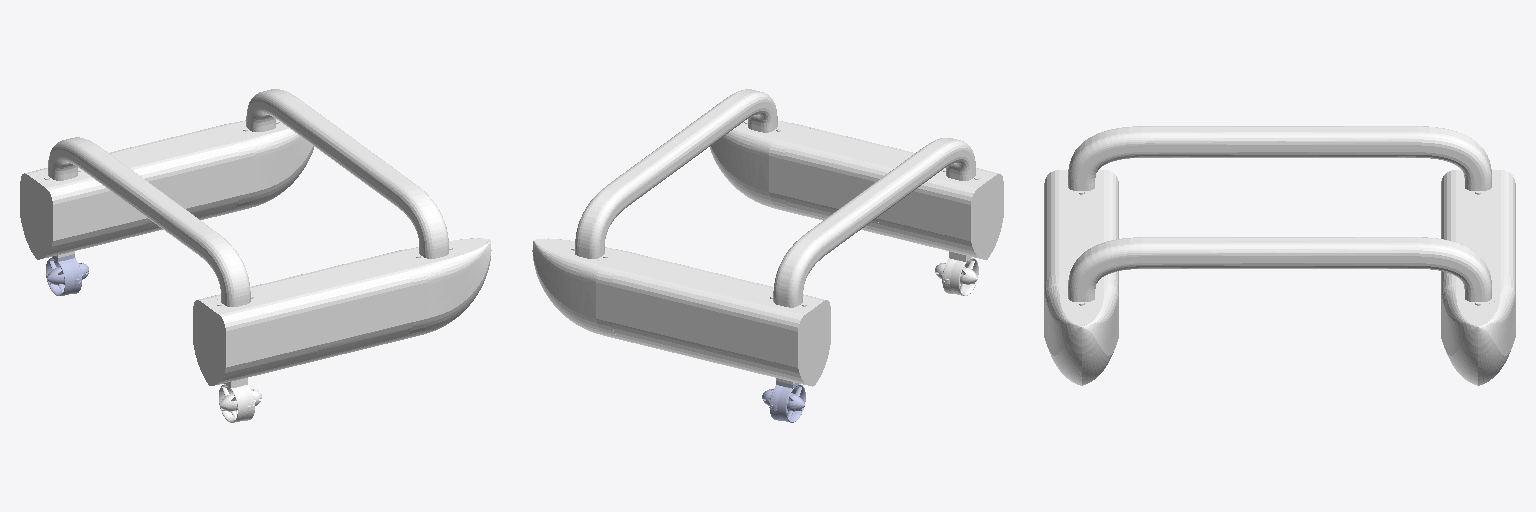
robot.urdf — boatcleaninge:
<?xml version="1.0" encoding="utf-8"?>
<!-- This URDF was automatically created by SolidWorks to URDF Exporter! Originally created by [author] ([email redacted]) 
     Commit Version: 1.6.0-4-g7f85cfe  Build Version: 1.6.7995.38578
     For more information, please see http://wiki.ros.org/sw_urdf_exporter -->
<robot
  name="boatcleaninge">
  <link
    name="baseboatclening">
    <inertial>
      <origin
        xyz="-0.04784 2.4633E-05 0.14963"
        rpy="0 0 0" />
      <mass
        value="13.329" />
      <inertia
        ixx="0.12461"
        ixy="1.1446E-06"
        ixz="-0.0014794"
        iyy="0.095916"
        iyz="1.0063E-05"
        izz="0.13623" />
    </inertial>
    <visual>
      <origin
        xyz="0 0 0"
        rpy="0 0 0" />
      <geometry>
        <mesh
          filename="package://boatcleaninge/meshes/baseboatclening.STL" />
      </geometry>
      <material
        name="">
        <color
          rgba="1 1 1 1" />
      </material>
    </visual>
    <collision>
      <origin
        xyz="0 0 0"
        rpy="0 0 0" />
      <geometry>
        <mesh
          filename="package://boatcleaninge/meshes/baseboatclening.STL" />
      </geometry>
    </collision>
  </link>
  <link
    name="axegauche">
    <inertial>
      <origin
        xyz="0.0098838 5.5598E-05 0.0036051"
        rpy="0 0 0" />
      <mass
        value="0.2016" />
      <inertia
        ixx="0.00021153"
        ixy="-1.977E-07"
        ixz="-2.0576E-06"
        iyy="0.00016202"
        iyz="-9.0328E-07"
        izz="0.00013067" />
    </inertial>
    <visual>
      <origin
        xyz="0 0 0"
        rpy="0 0 0" />
      <geometry>
        <mesh
          filename="package://boatcleaninge/meshes/axegauche.STL" />
      </geometry>
      <material
        name="">
        <color
          rgba="0.79216 0.81961 0.93333 1" />
      </material>
    </visual>
    <collision>
      <origin
        xyz="0 0 0"
        rpy="0 0 0" />
      <geometry>
        <mesh
          filename="package://boatcleaninge/meshes/axegauche.STL" />
      </geometry>
    </collision>
  </link>
  <joint
    name="axegauchejoint"
    type="fixed">
    <origin
      xyz="-0.30981 0.39873 -0.056"
      rpy="0 0 0" />
    <parent
      link="baseboatclening" />
    <child
      link="axegauche" />
    <axis
      xyz="0 0 0" />
  </joint>
  <link
    name="fangauche">
    <inertial>
      <origin
        xyz="0.0121880649596053 -1.96166671795339E-09 4.45801810883273E-08"
        rpy="0 0 0" />
      <mass
        value="0.00795785659641835" />
      <inertia
        ixx="3.72710558894494E-06"
        ixy="2.12970220916509E-13"
        ixz="-8.34019263853851E-13"
        iyy="2.3933165516727E-06"
        iyz="-4.61638273541746E-10"
        izz="2.39447831194735E-06" />
    </inertial>
    <visual>
      <origin
        xyz="0 0 0"
        rpy="0 0 0" />
      <geometry>
        <mesh
          filename="package://boatcleaninge/meshes/fangauche.STL" />
      </geometry>
      <material
        name="">
        <color
          rgba="0.792156862745098 0.819607843137255 0.933333333333333 1" />
      </material>
    </visual>
    <collision>
      <origin
        xyz="0 0 0"
        rpy="0 0 0" />
      <geometry>
        <mesh
          filename="package://boatcleaninge/meshes/fangauche.STL" />
      </geometry>
    </collision>
  </link>
  <joint
    name="fangauchejoint"
    type="continuous">
    <origin
      xyz="0 0 0"
      rpy="0 0 0" />
    <parent
      link="axegauche" />
    <child
      link="fangauche" />
    <axis
      xyz="1 0 0" />
  </joint>
  <link
    name="axedroit">
    <inertial>
      <origin
        xyz="0 0 0"
        rpy="0 0 0" />
      <mass
        value="0" />
      <inertia
        ixx="0"
        ixy="0"
        ixz="0"
        iyy="0"
        iyz="0"
        izz="0" />
    </inertial>
    <visual>
      <origin
        xyz="0 0 0"
        rpy="0 0 0" />
      <geometry>
        <mesh
          filename="package://boatcleaninge/meshes/axedroit.STL" />
      </geometry>
      <material
        name="">
        <color
          rgba="1 1 1 1" />
      </material>
    </visual>
    <collision>
      <origin
        xyz="0 0 0"
        rpy="0 0 0" />
      <geometry>
        <mesh
          filename="package://boatcleaninge/meshes/axedroit.STL" />
      </geometry>
    </collision>
  </link>
  <joint
    name="axedroitjoint"
    type="fixed">
    <origin
      xyz="-0.3088 -0.40127 -0.056"
      rpy="0 0 0" />
    <parent
      link="baseboatclening" />
    <child
      link="axedroit" />
    <axis
      xyz="0 0 0" />
  </joint>
  <link
    name="fandroit">
    <inertial>
      <origin
        xyz="0.0111720649596023 -1.96166084764915E-09 4.45801802140267E-08"
        rpy="0 0 0" />
      <mass
        value="0.00795785659641851" />
      <inertia
        ixx="3.72710558894501E-06"
        ixy="2.12970221640292E-13"
        ixz="-8.34019269810521E-13"
        iyy="2.39331655167276E-06"
        iyz="-4.61638273471348E-10"
        izz="2.39447831194736E-06" />
    </inertial>
    <visual>
      <origin
        xyz="0 0 0"
        rpy="0 0 0" />
      <geometry>
        <mesh
          filename="package://boatcleaninge/meshes/fandroit.STL" />
      </geometry>
      <material
        name="">
        <color
          rgba="0.792156862745098 0.819607843137255 0.933333333333333 1" />
      </material>
    </visual>
    <collision>
      <origin
        xyz="0 0 0"
        rpy="0 0 0" />
      <geometry>
        <mesh
          filename="package://boatcleaninge/meshes/fandroit.STL" />
      </geometry>
    </collision>
  </link>
  <joint
    name="fandroitjoint"
    type="continuous">
    <origin
      xyz="0 0 0"
      rpy="0 0 0" />
    <parent
      link="axedroit" />
    <child
      link="fandroit" />
    <axis
      xyz="1 0 0" />
  </joint>
</robot>

--- What the picture shows (computed from the rendered views, not written in the file) ---
Views: 3 orthographic renders of the robot side by side, from view 1: azimuth 30°, elevation 25°; view 2: azimuth 150°, elevation 25°; view 3: azimuth 270°, elevation 25°.
Robot: boatcleaninge — 5 links, 4 joints (2 continuous, 2 fixed); root link baseboatclening; default pose: all joints at 0.
Links seen in each view (by area): view 1: baseboatclening, axedroit, axegauche; view 2: baseboatclening, axedroit, axegauche; view 3: baseboatclening.
Boxes of the visible links, x1,y1,x2,y2 form: baseboatclening: (20, 89, 491, 385); axedroit: (219, 381, 261, 422); axegauche: (46, 254, 88, 295); baseboatclening: (532, 89, 1003, 386); axedroit: (935, 254, 978, 295); axegauche: (762, 381, 805, 422); baseboatclening: (1044, 126, 1515, 385).
Bounding box of the posed robot: 0.75 × 0.95 × 0.4268 m (x, y, z).
4 mesh visuals loaded from 5 distinct referenced files (4 binary STL); not drawn: 1 (reference not matched to a file when rendering).